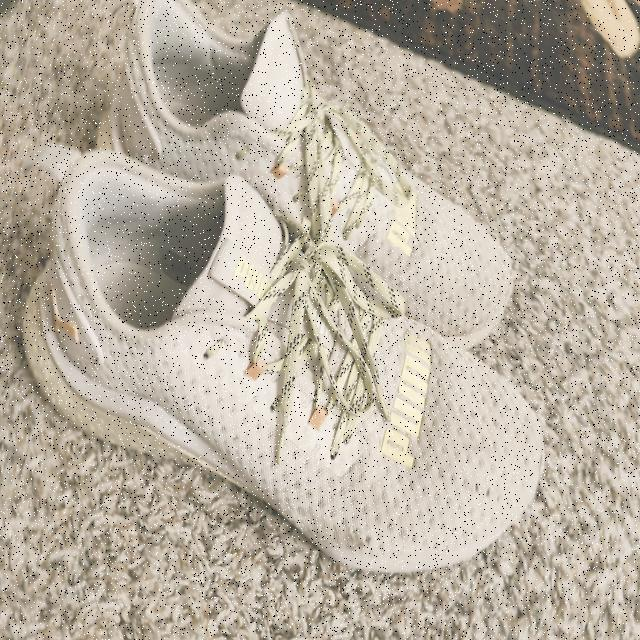white shoes: (21, 0, 544, 555)
